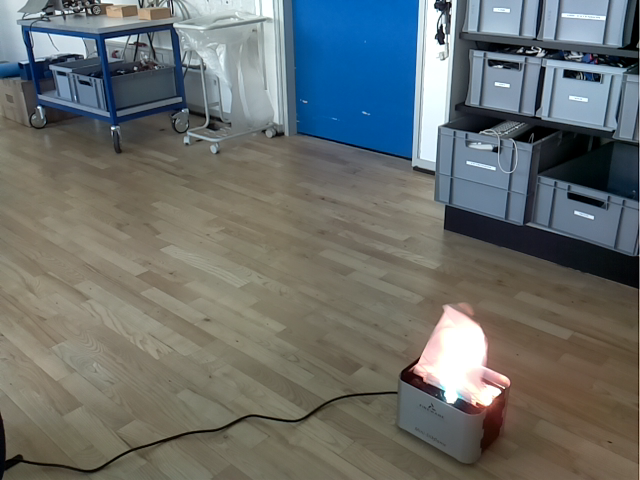fire: (412, 304, 491, 408)
